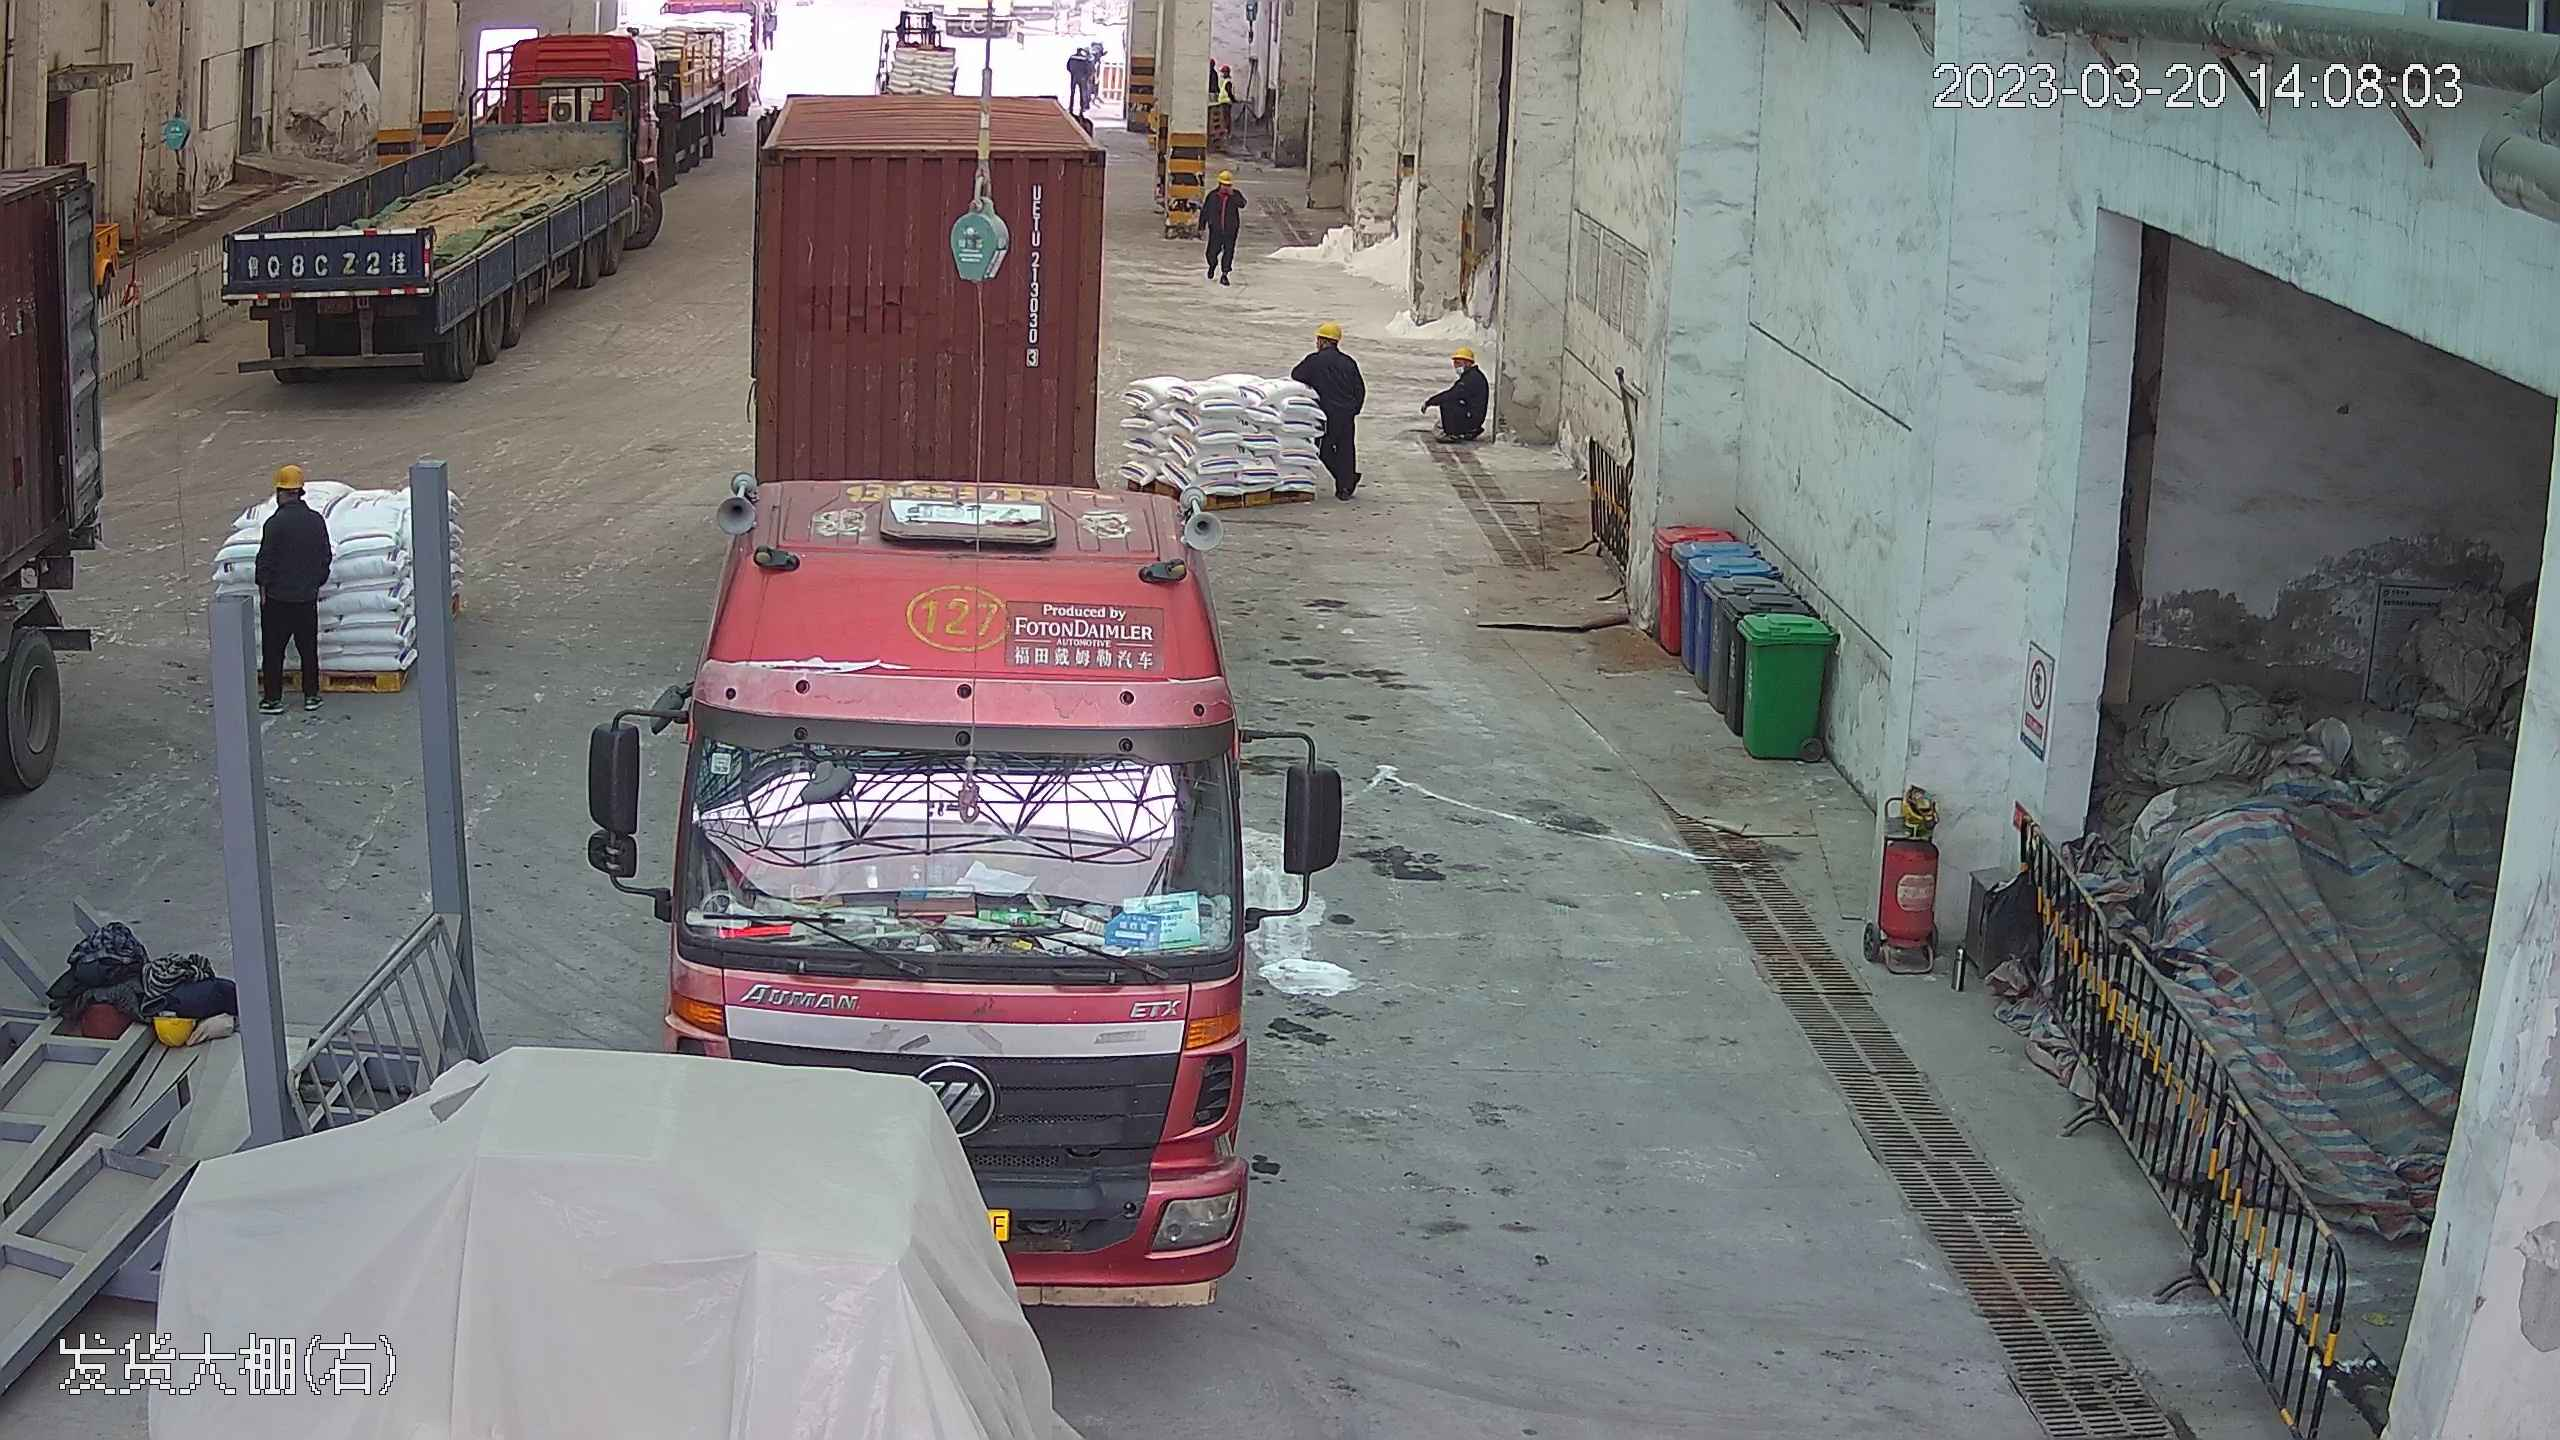head: (260, 461, 328, 538), (1301, 316, 1363, 380), (1441, 341, 1489, 395), (1206, 167, 1244, 212), (1216, 64, 1235, 91)
helmet: (1447, 342, 1485, 379), (270, 462, 308, 489), (1316, 318, 1347, 340), (1451, 340, 1478, 360), (1213, 163, 1234, 179), (1221, 64, 1232, 72)
people: (252, 455, 335, 709), (1295, 314, 1368, 502), (1437, 339, 1489, 451), (1197, 167, 1245, 289), (1066, 35, 1097, 118), (1217, 61, 1239, 135)
truck: (644, 21, 1269, 1301)
